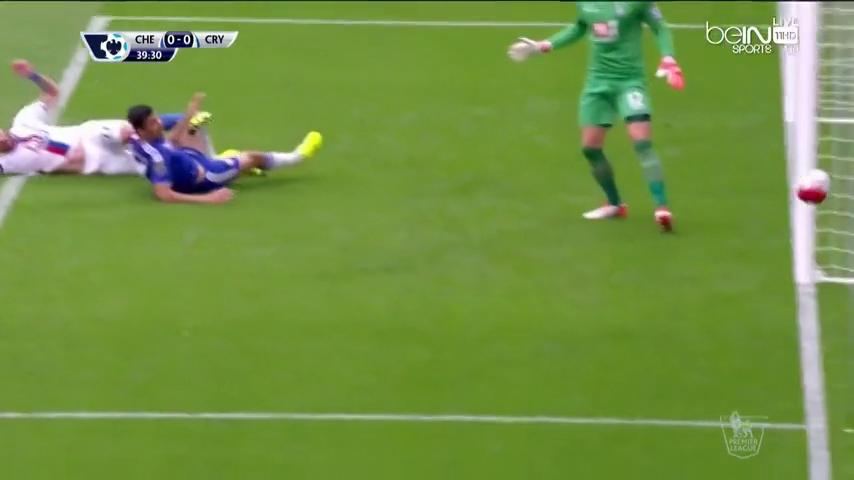football: (795, 167, 831, 205)
